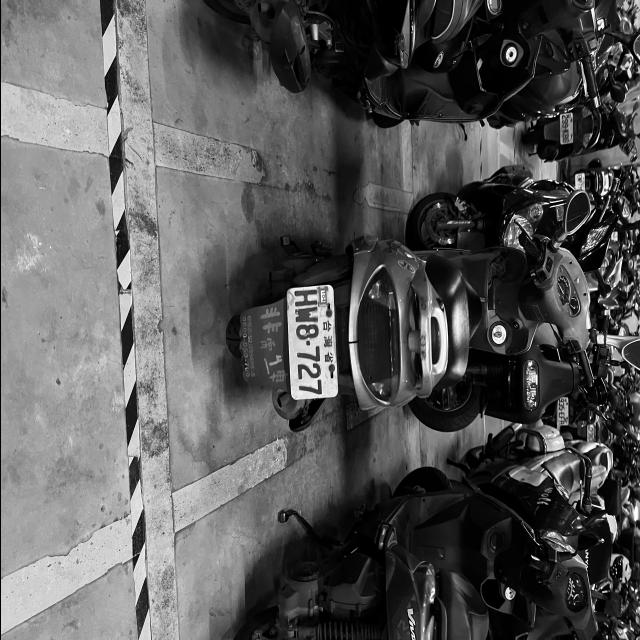-: (304, 341, 310, 346)
2: (296, 364, 322, 381), (561, 114, 567, 120)
6: (297, 380, 323, 396)
7: (296, 346, 320, 364), (308, 252, 310, 260)
8: (296, 324, 318, 342)
9: (561, 124, 568, 128), (562, 120, 568, 124)
E: (576, 174, 582, 178)
H: (294, 289, 318, 307)
K: (561, 130, 568, 134)
W: (294, 305, 318, 323)
plate: (288, 287, 332, 400), (560, 113, 572, 144)
